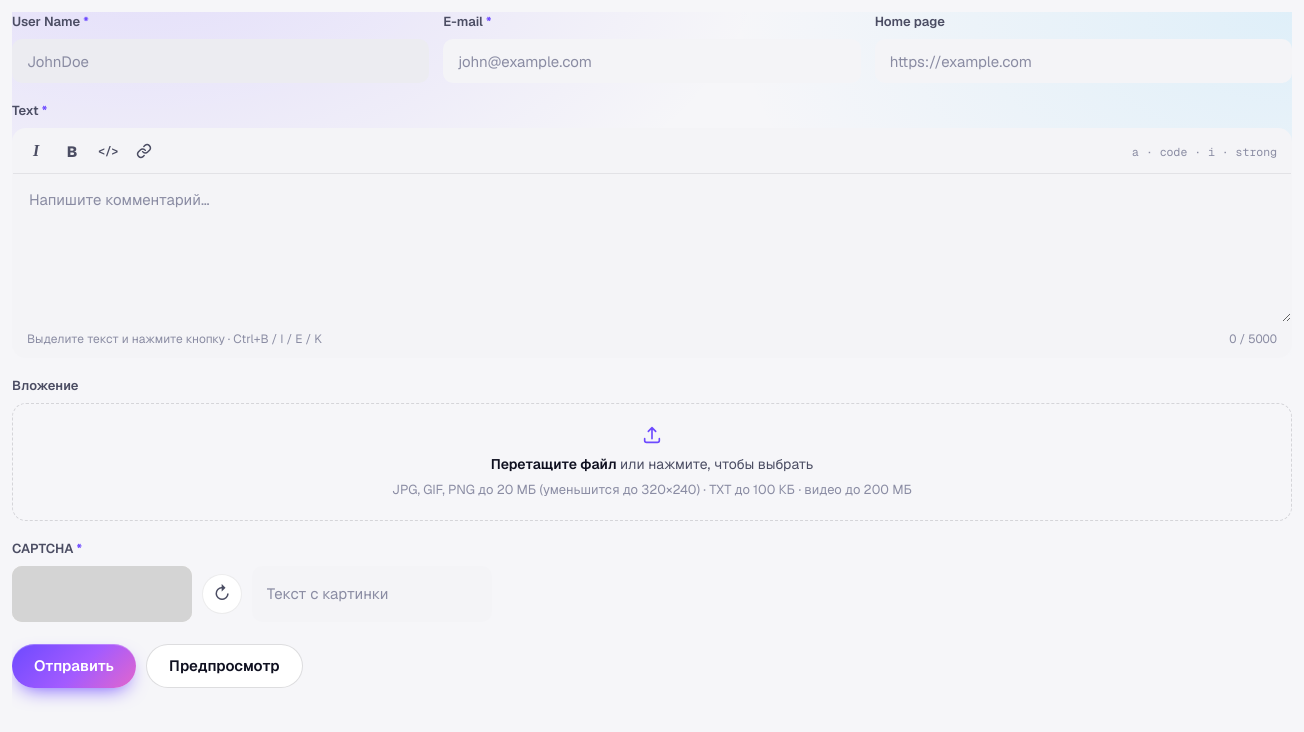
Scenario: CommentForm › предпросмотр › локальная ошибка не ходит на сервер
What coordinates should you click on to do the following:
click the button "Предпросмотр"
I would click on:
 (224, 666)
Its box is [146,644,303,688].
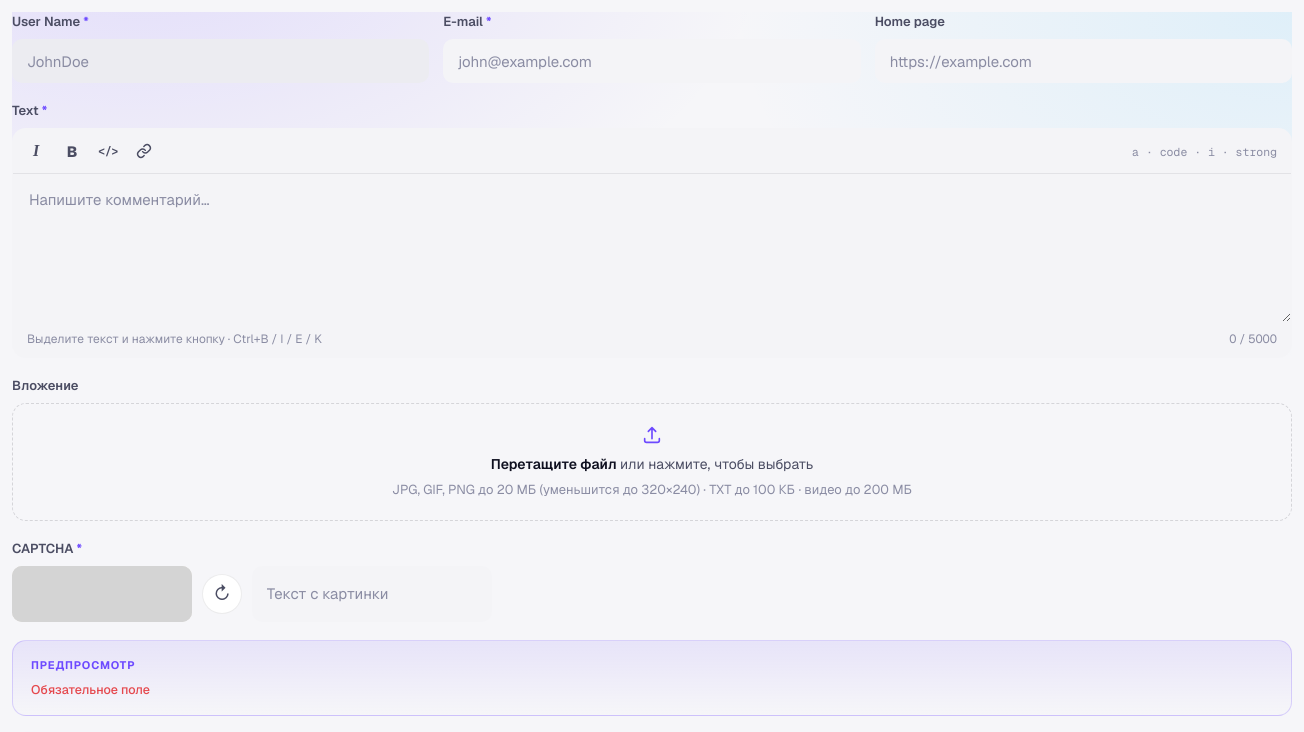
Expected: the text "Обязательное поле" is shown, [31,681,150,698]
